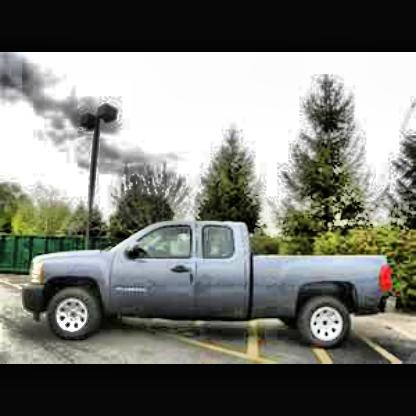Chevrolet Silverado 1500 Extended Cab 2012: (20, 219, 390, 352)
